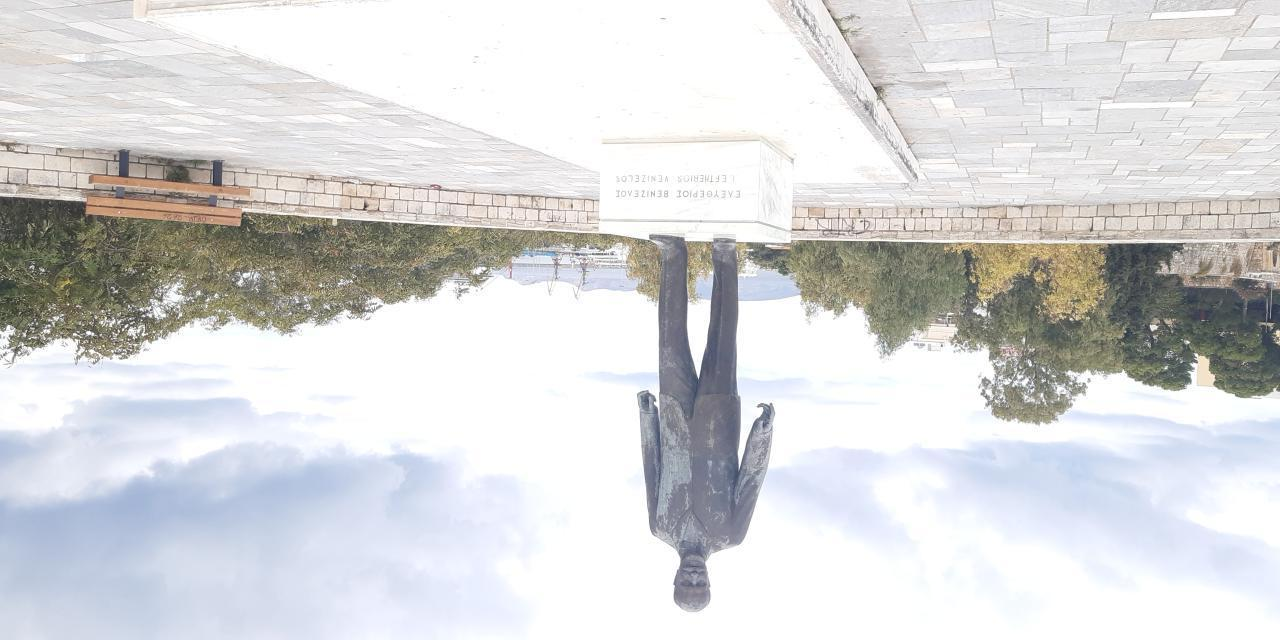Venizelos: (639, 238, 774, 615)
